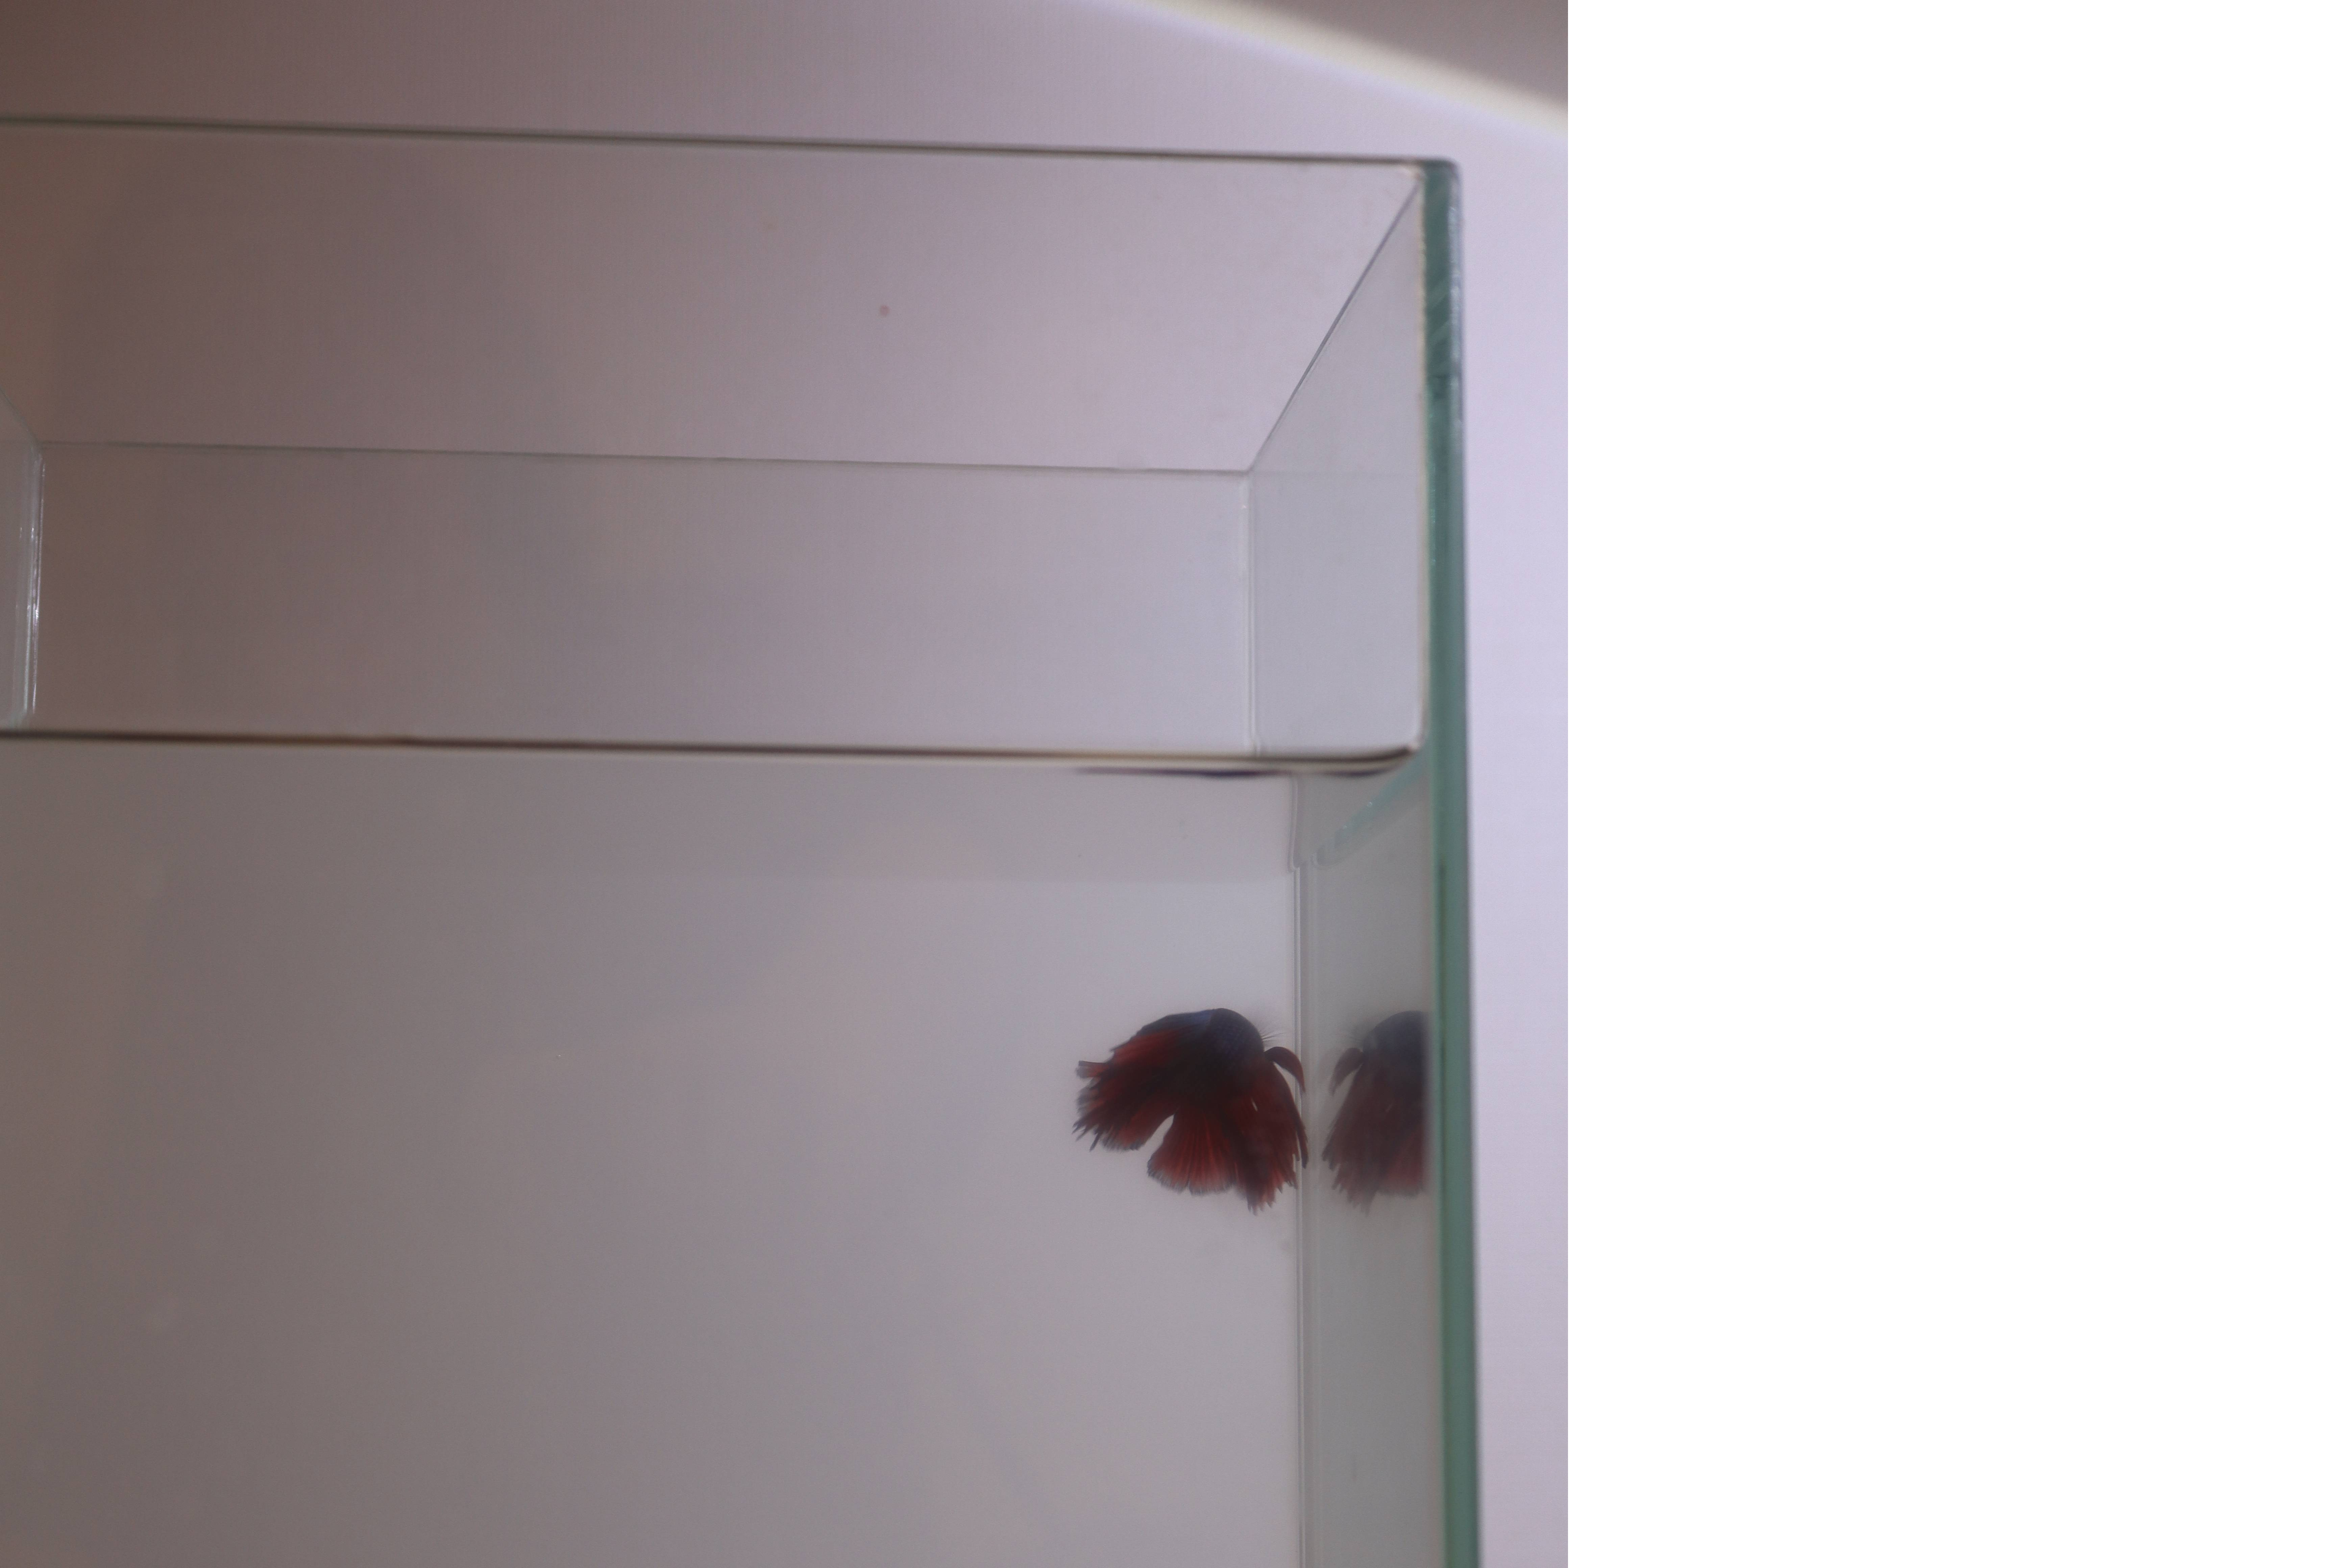fish: (1053, 1001, 1319, 1236)
